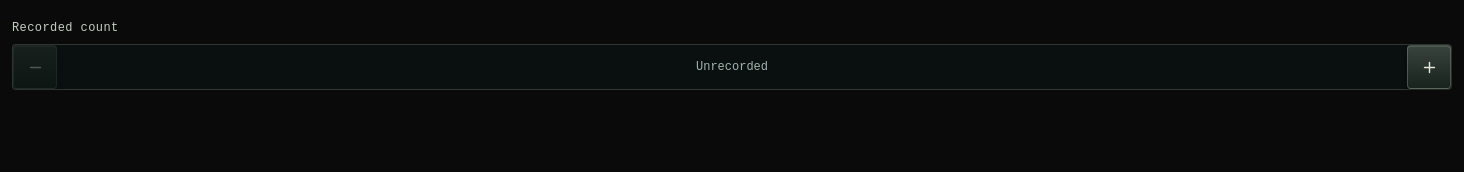
Test: bounds direct edits and steppers using the same inclusive range
Later steps or results of the test are not shown.
Step 1. Type "0" into the field labelled "Recorded count" → (732, 67), box [64,45,1400,89]
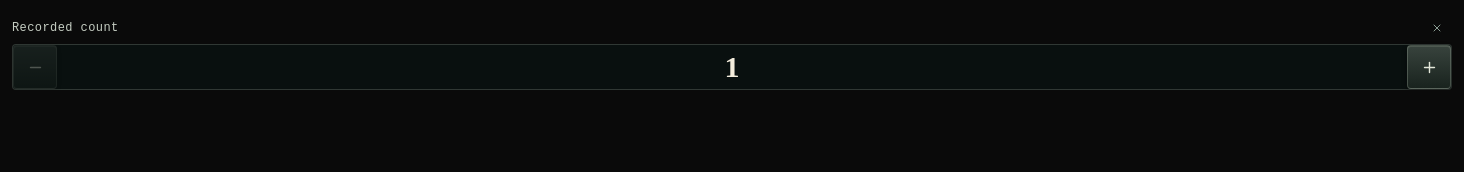
Check: the button named "Decrease Recorded count" is disabled, box [13,45,57,89]
Check: the field labelled "Recorded count" holds "1"
Step 2. Replace the text in the field labelled "Recorded count" with "999" → (732, 67), box [64,45,1400,89]
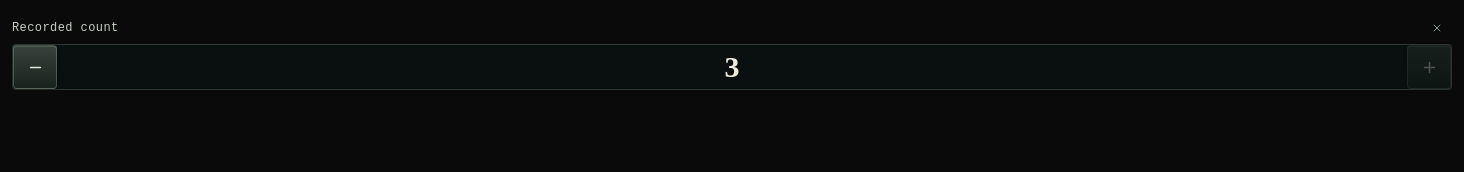
Check: the field labelled "Recorded count" holds "3", box [64,45,1400,89]
Check: the button named "Increase Recorded count" is disabled, box [1407,45,1451,89]
